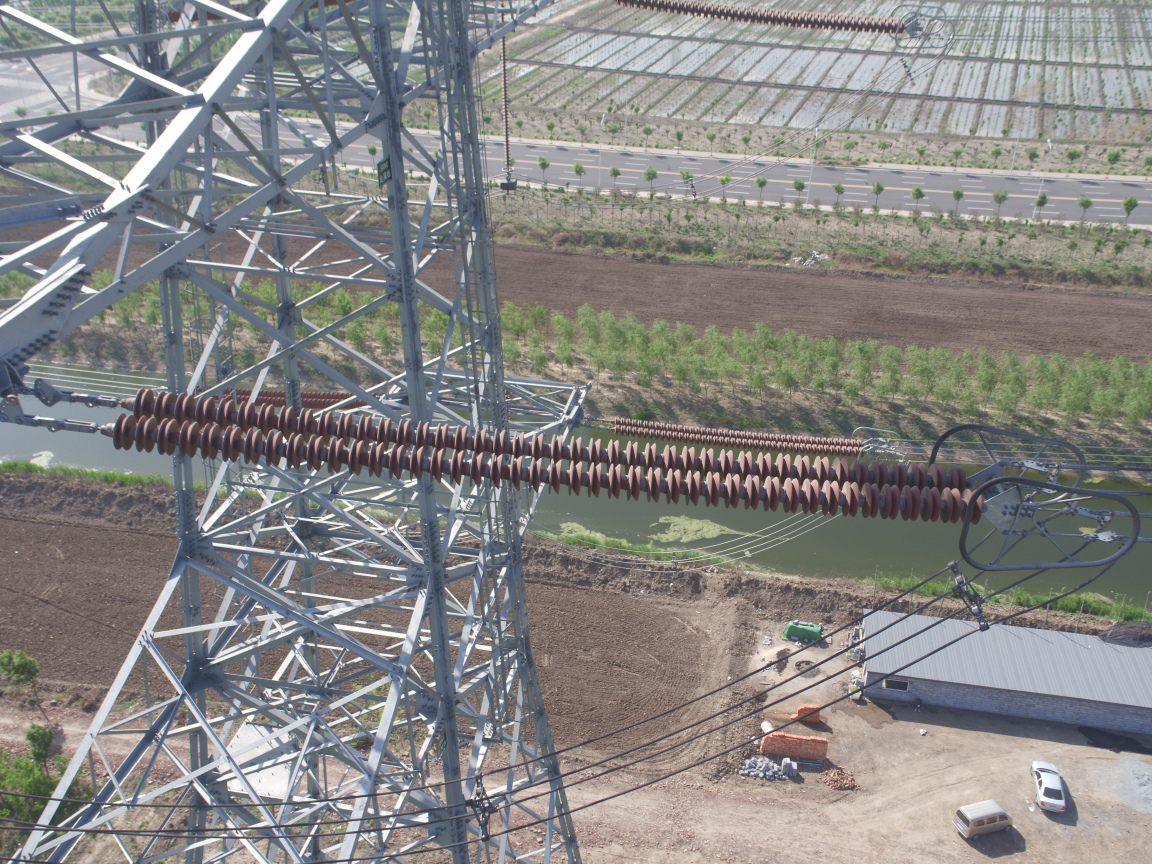insulator: (82, 383, 997, 530), (615, 1, 907, 35)
